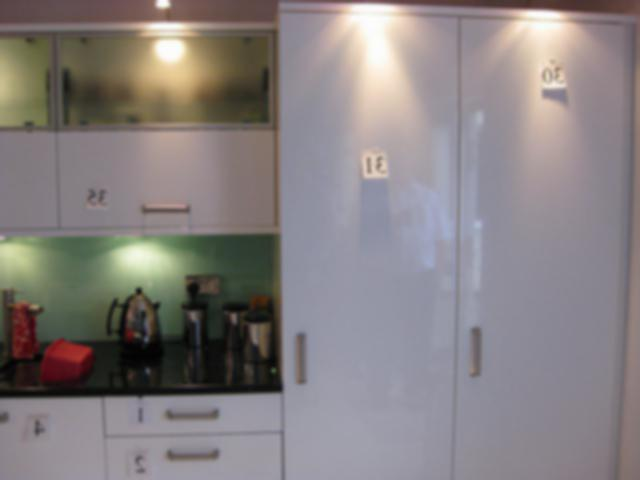Lavaplatos: (0, 276, 89, 397)
